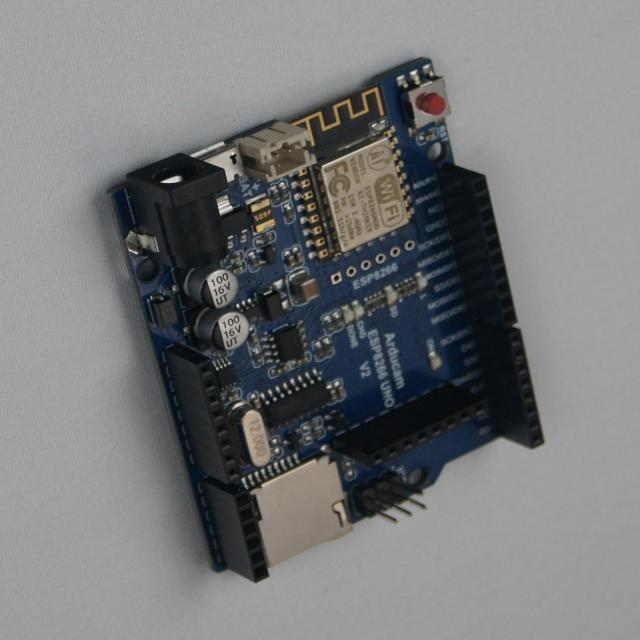Arduino Uno Camera Shield: (112, 59, 544, 582)
